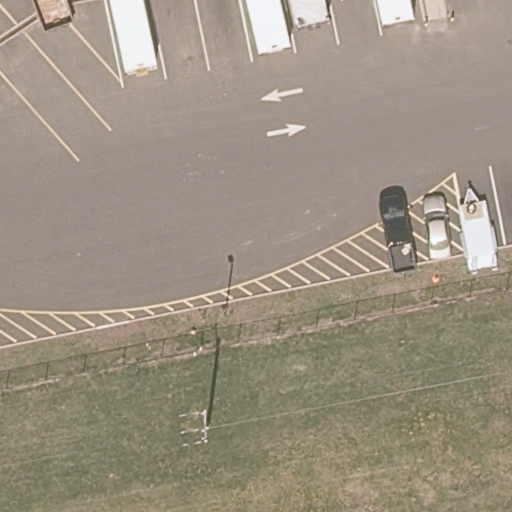DT: (179, 406, 212, 447)
